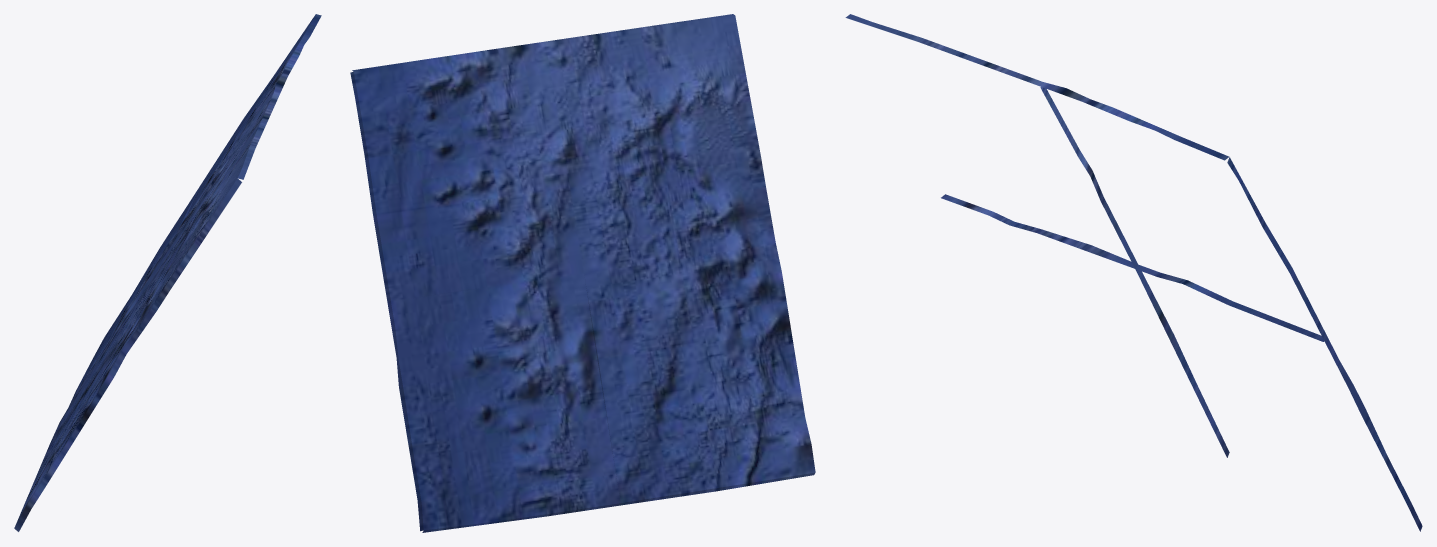
3 renders of one model, left to right at view 1: azimuth 30°, elevation 25°; view 2: azimuth 150°, elevation 25°; view 3: azimuth 270°, elevation 25°, orthographic. The views are drawn at different scales.
Bounding box in the file's own units: 299735 × 277480 × 309689.
Materials: 1 (1 with a texture image).
